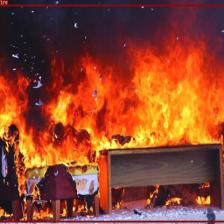fire: (0, 4, 224, 222)
